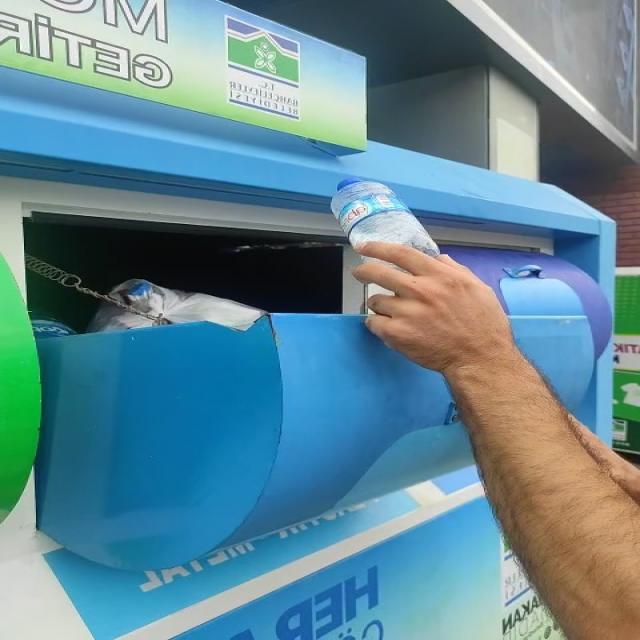Plastic: (331, 178, 440, 256)
